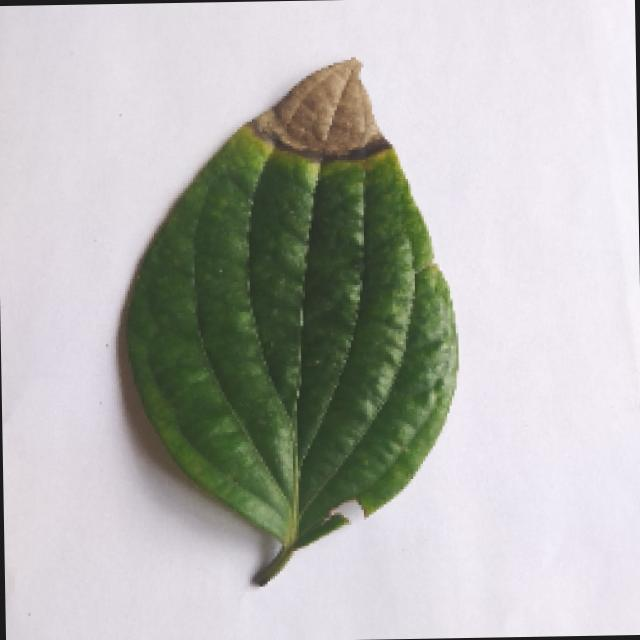footrot: (116, 55, 460, 586)
